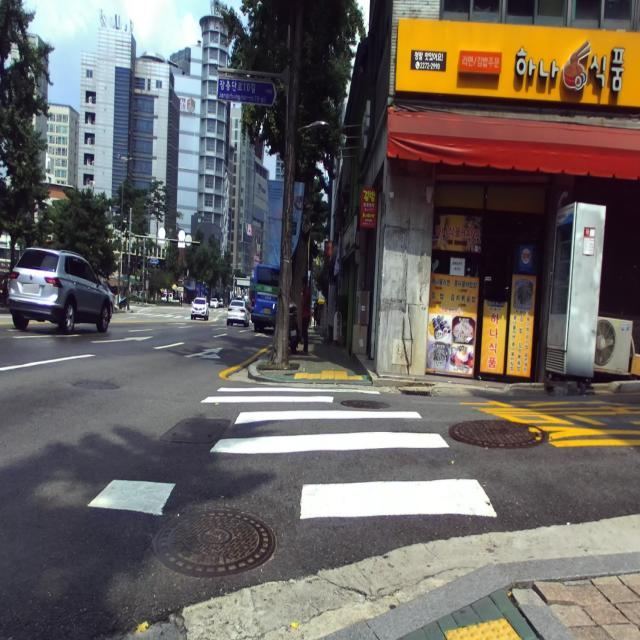횡단보도: (88, 388, 496, 519)
